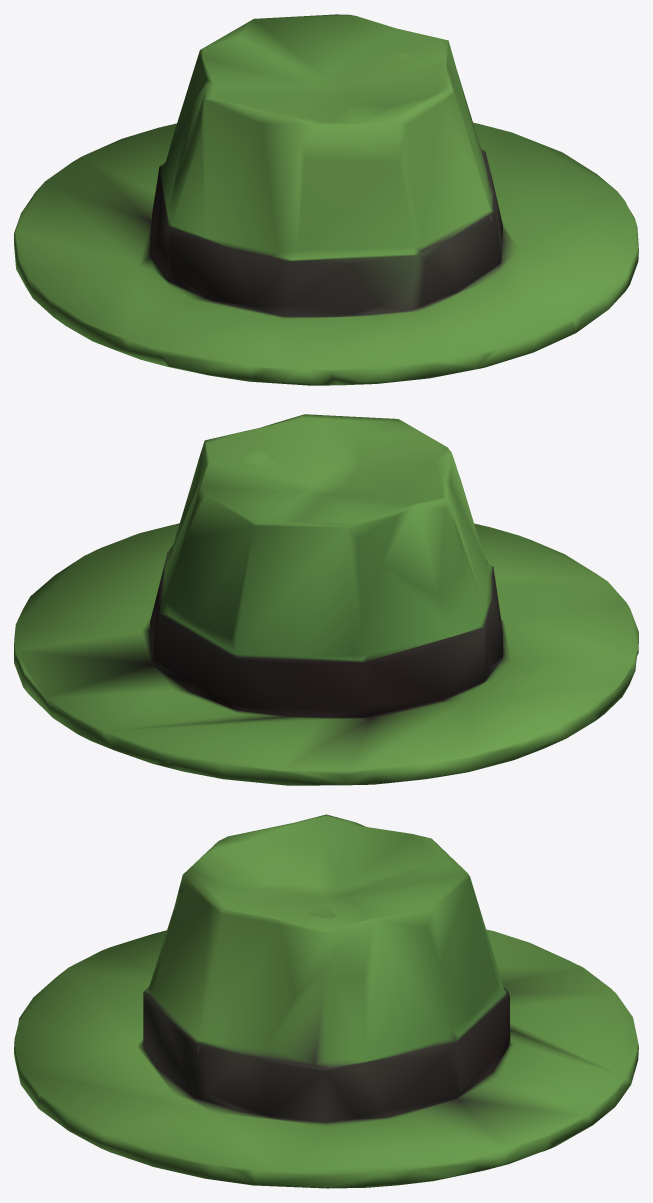
Rendered from gen3d-hat-lod1.glb.
The picture shows the model from 3 angles, top to bottom: view 1: azimuth 30°, elevation 25°; view 2: azimuth 150°, elevation 25°; view 3: azimuth 270°, elevation 25°; orthographic projection.
Visible parts, largest first — view 1: part_0; view 2: part_0; view 3: part_0.
Boxes of the visible parts, <box> form: part_0: <box>14,14,638,385</box>; part_0: <box>14,414,638,785</box>; part_0: <box>14,814,638,1188</box>.
Bounding box in the file's own units: 3.05 × 1 × 3.05.
